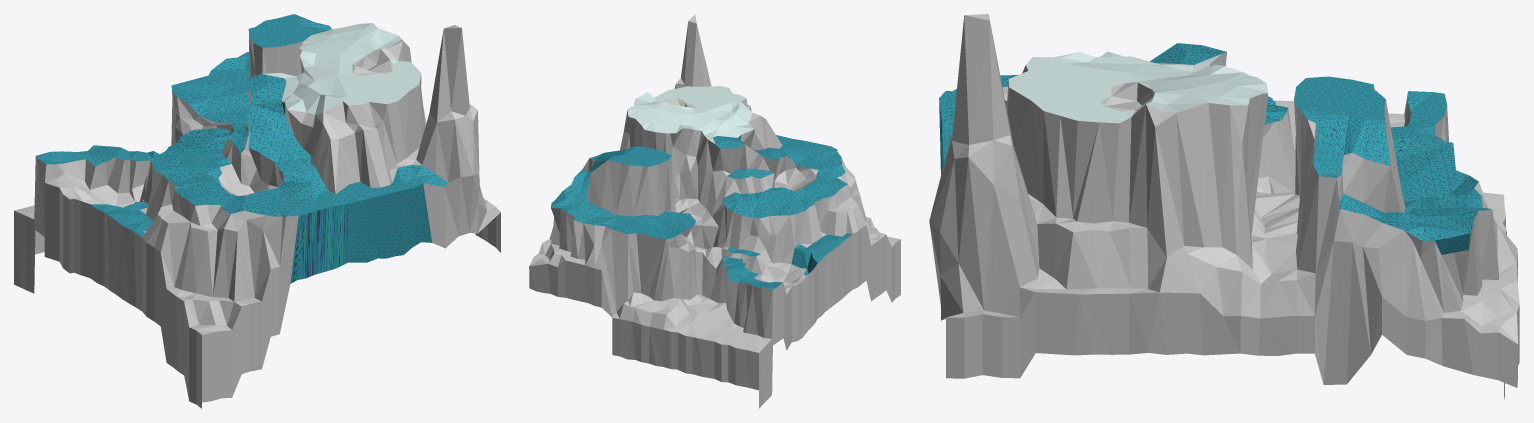
The model's file is Terrain_Mountainsandsnow.fbx.
3 views of the same model, side by side, from view 1: azimuth 30°, elevation 25°; view 2: azimuth 150°, elevation 25°; view 3: azimuth 270°, elevation 25° (orthographic). The views are drawn at different scales.
Parts seen in each view (by area): view 1: Mountains; view 2: Mountains; view 3: Mountains.
Boxes of the visible parts, bbox=[...] form: Mountains: bbox=[14, 14, 500, 408]; Mountains: bbox=[529, 14, 900, 408]; Mountains: bbox=[929, 14, 1519, 399].
Bounding box in the file's own units: 9320 × 9467 × 10508.
